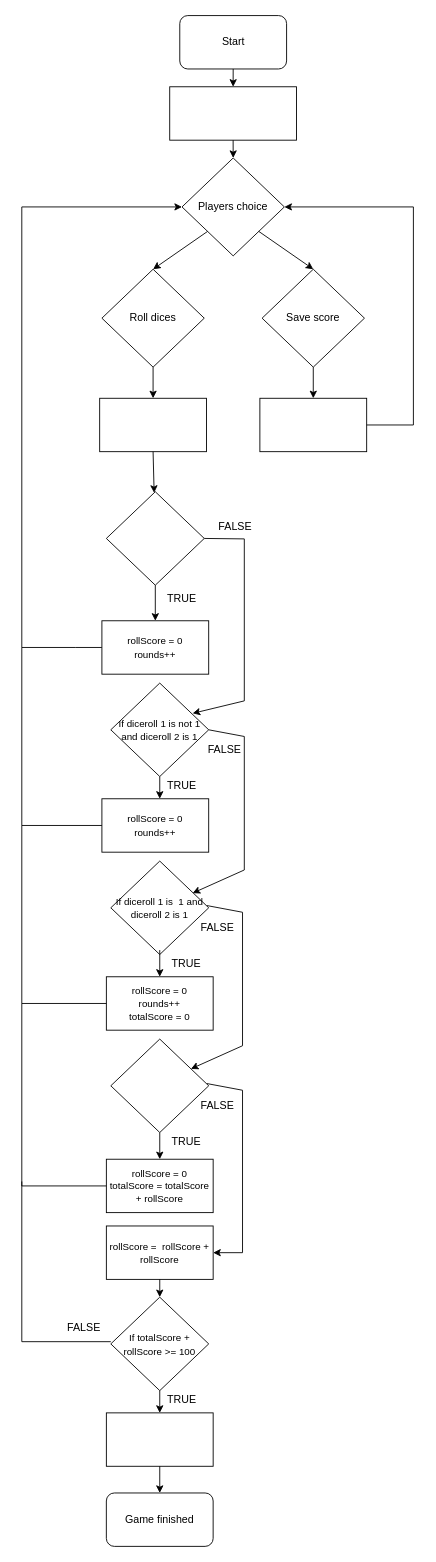
The diagram is 436 pixels wide and 1562 high, and some of its shapes have lost their labels. Each missing label, with the box of its shape:
If diceroll 1 is 1 and diceroll 2 is not 1: (105, 491, 204, 585)
If diceroll 1 is 6 and diceroll 2 is 6: (110, 1038, 209, 1133)
Initiate rollScore = 0 initiate totalScore = 0 Initiate rounds = 0: (169, 86, 297, 140)
Initiate the two dicerolls: (99, 397, 206, 452)
rounds++ Save the rounds to the highscore: (105, 1412, 213, 1466)
rounds++ totalScore = totalScore + rollScore rollScore = 0: (259, 397, 367, 452)
